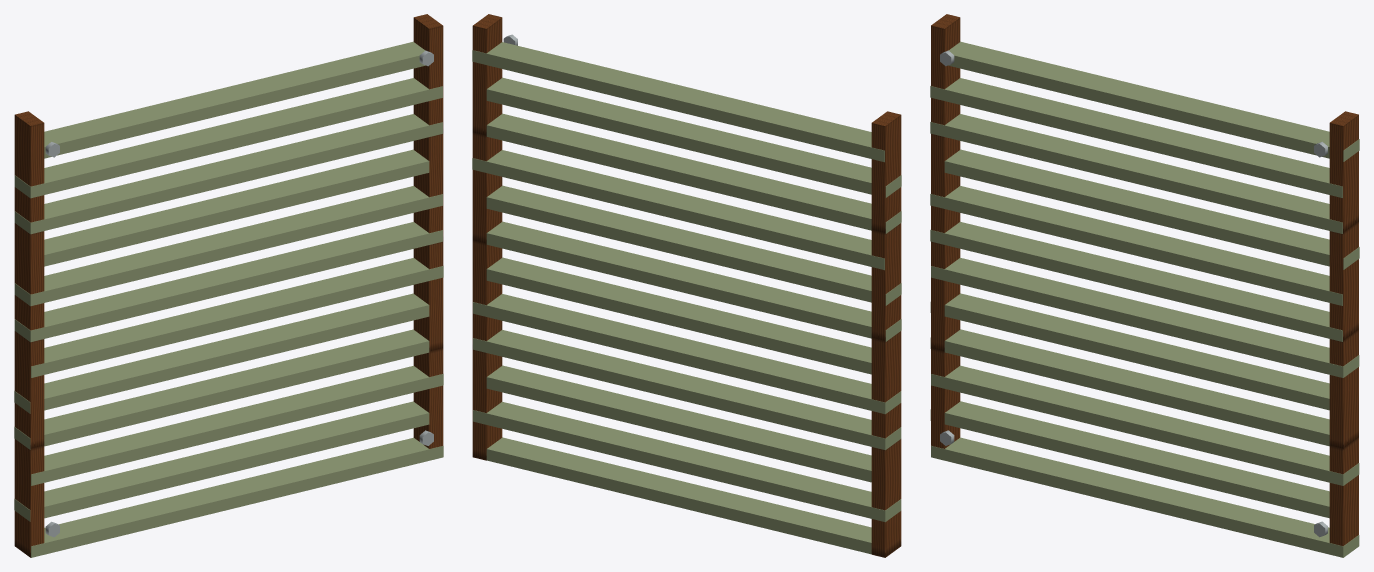
Rendered from prehistoric-survivor-settlement-woven-privacy-divider-661b9eba__23212.glb.
3 renders of one model, left to right at view 1: azimuth 30°, elevation 25°; view 2: azimuth 150°, elevation 25°; view 3: azimuth 330°, elevation 25°, orthographic.
Visible parts, largest first — view 1: woven-privacy-divider; view 2: woven-privacy-divider; view 3: woven-privacy-divider.
Part boxes in pixels (box(x1,y1,x2,y2)): woven-privacy-divider: box(14, 14, 443, 557); woven-privacy-divider: box(472, 14, 901, 557); woven-privacy-divider: box(930, 14, 1359, 557).
Size of the model in its own units: 1.5 by 1.5 by 0.1292.
3 materials, 1 textured.
